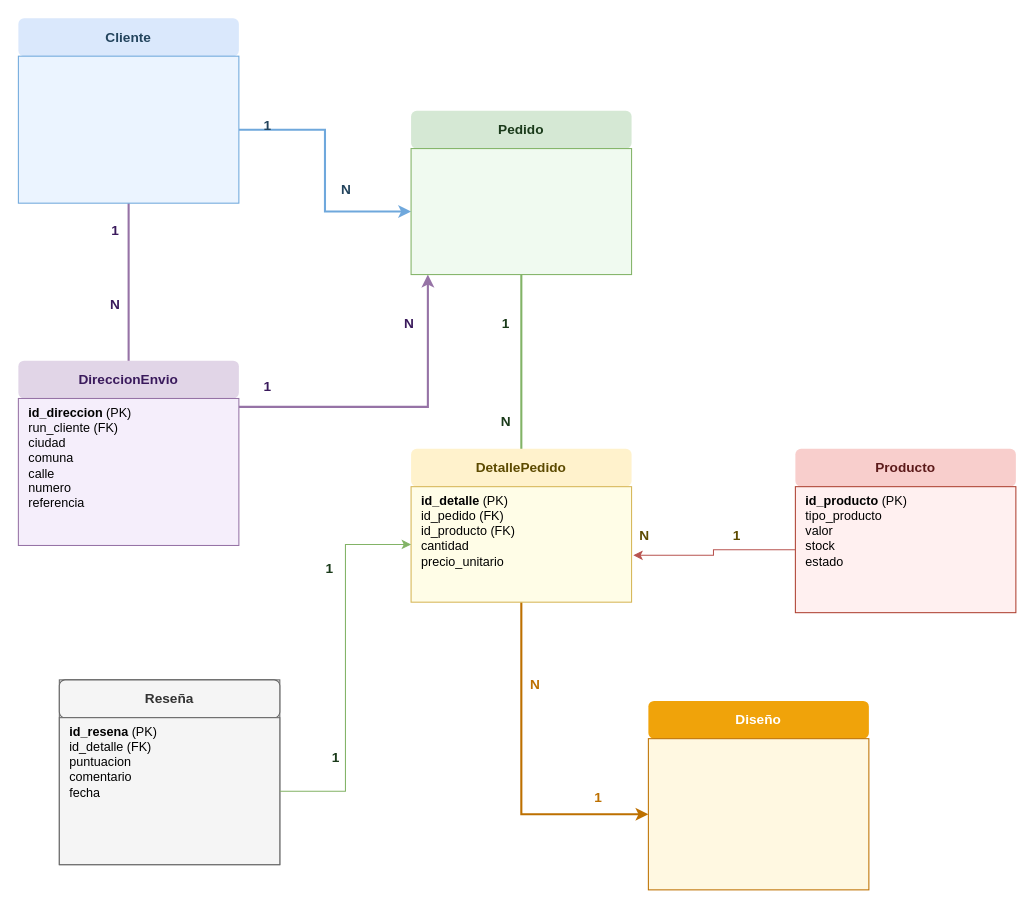
The diagram is 1034 pixels wide and 908 high, and some of its shapes have lost their labels. Each missing label, with the centre of its shape:
id_diseño (PK) id_detalle (FK) tamano a_color precio foto dibujo: (758,814)
id_pedido (PK) run_cliente (FK) id_direccion (FK) fecha estado total: (521,211)
run (PK) primer_nombre segundo_nombre ap_paterno ap_materno correo telefono: (128,129)
